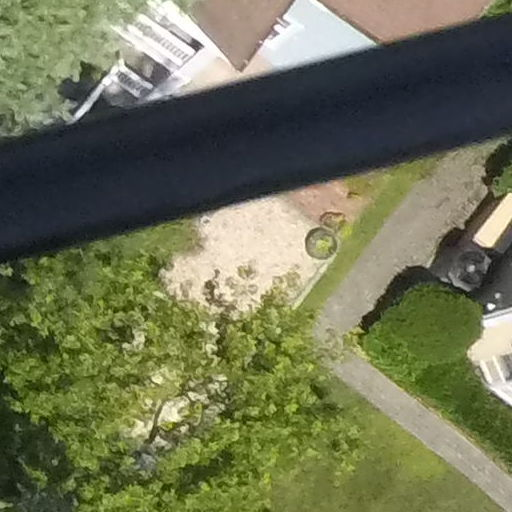air conditioner: (421, 228, 494, 295)
container: (299, 223, 342, 266), (319, 208, 347, 236)
